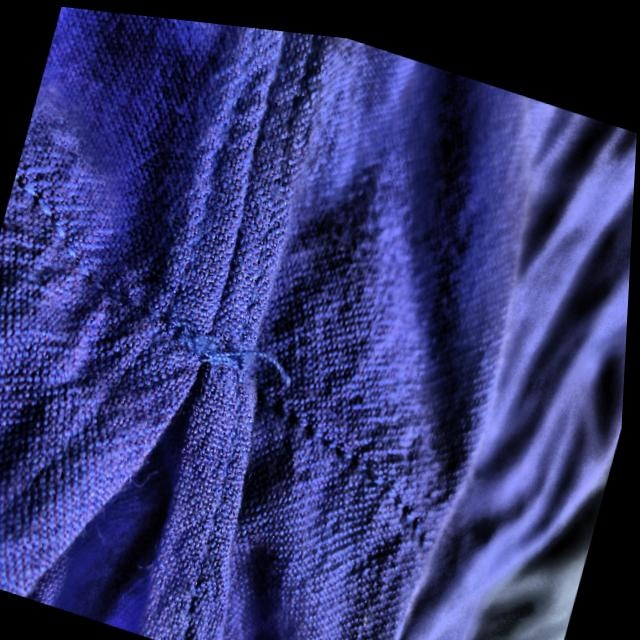Stitch: (82, 233, 385, 451), (103, 255, 355, 426)
